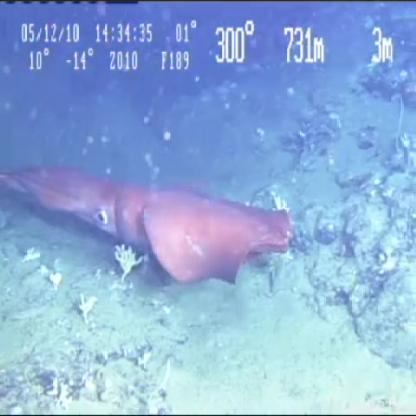Bio: (1, 163, 295, 290), (110, 242, 148, 286), (76, 291, 100, 326)
